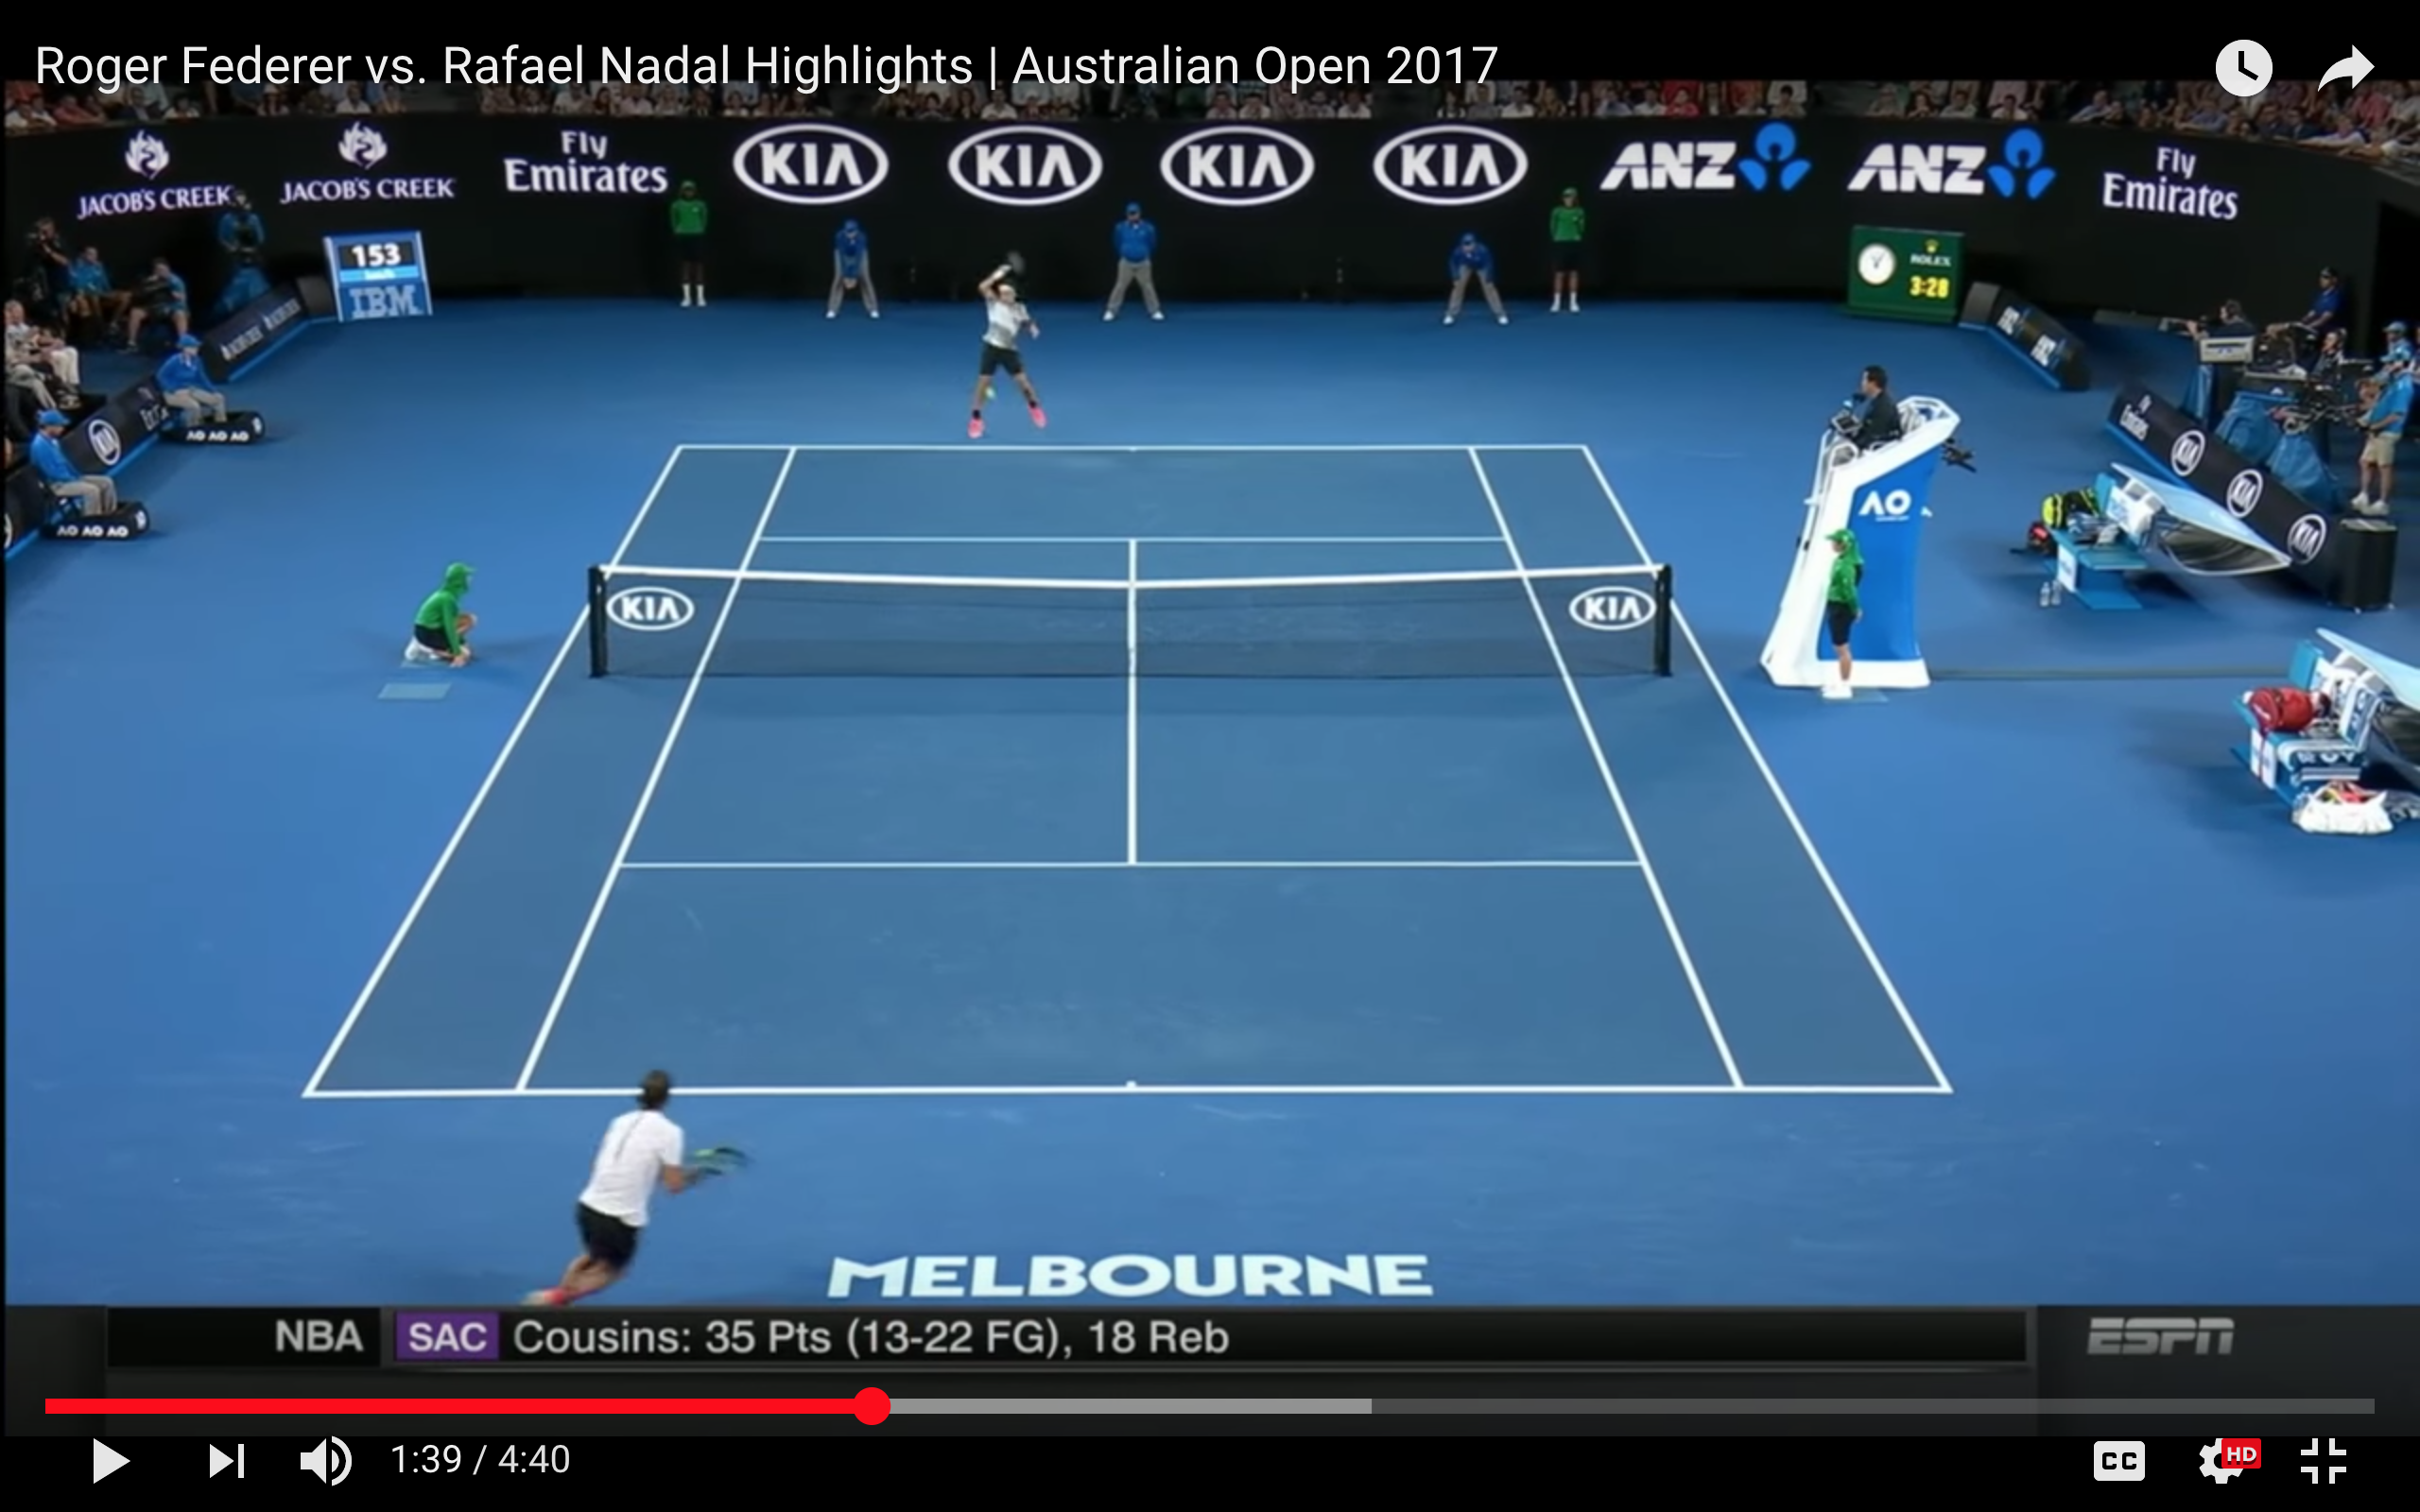tennis ball: (985, 388, 1003, 404)
tennis player: (521, 1064, 752, 1306), (962, 248, 1056, 445)
